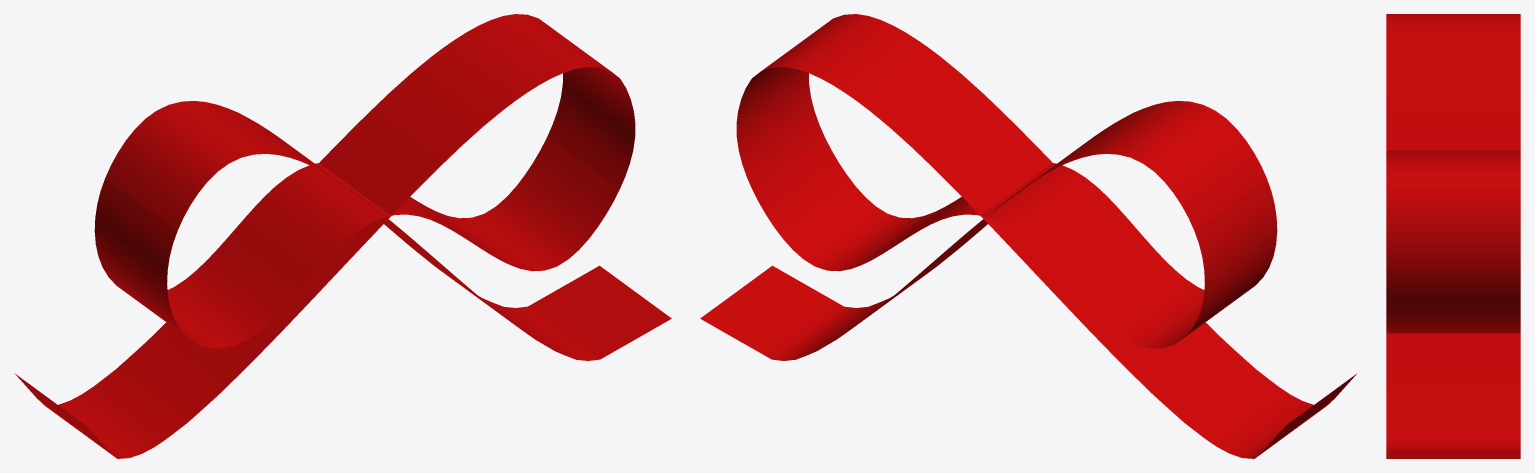
File: Ribbon.obj
The picture shows the model from 3 angles, left to right: view 1: azimuth 30°, elevation 25°; view 2: azimuth 150°, elevation 25°; view 3: azimuth 270°, elevation 25°; orthographic projection. The views are drawn at different scales.
Parts seen in each view (by area): view 1: Grid; view 2: Grid; view 3: Grid.
Part boxes in pixels (bbox=[...]): Grid: bbox=[15, 14, 671, 458]; Grid: bbox=[700, 14, 1356, 458]; Grid: bbox=[1386, 14, 1520, 458].
Size of the model in its own units: 9.34 by 4.52 by 2.
